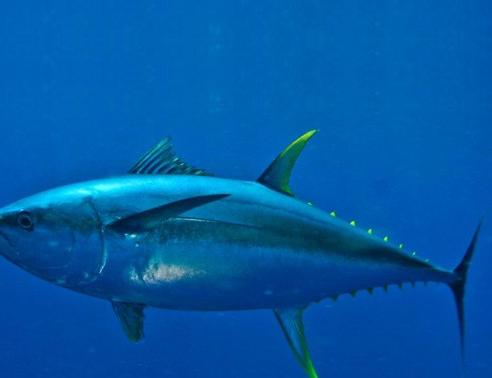Scombridae -Tunas-: (0, 126, 485, 378)
